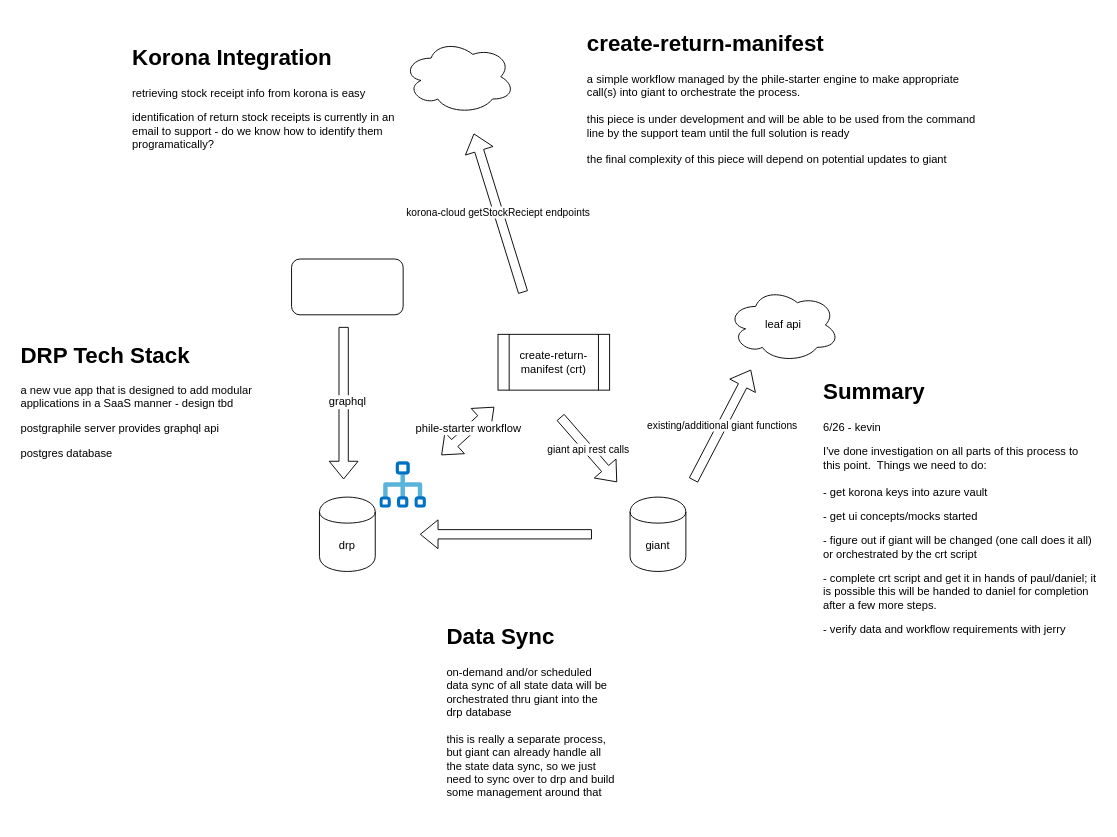
The diagram is 1117 pixels wide and 837 high, and some of its shapes have lost their labels. The shapes that lost their labels are listed below. From the top down, each one's centre as x and y in pixels, then its label:
point (458, 76): korona api
point (347, 286): drp ui - return manifest
